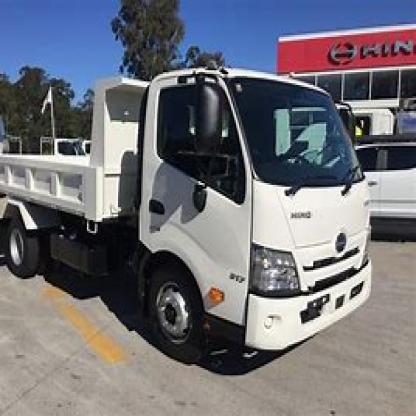dump_truck: (5, 61, 377, 373)
